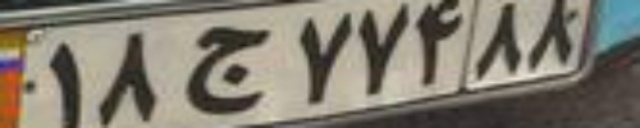1: (47, 41, 81, 126)
4: (416, 0, 465, 86)
7: (358, 3, 413, 96), (297, 11, 352, 103)
8: (96, 31, 156, 123), (475, 1, 520, 80), (529, 0, 573, 68)
jim: (189, 27, 271, 113)
